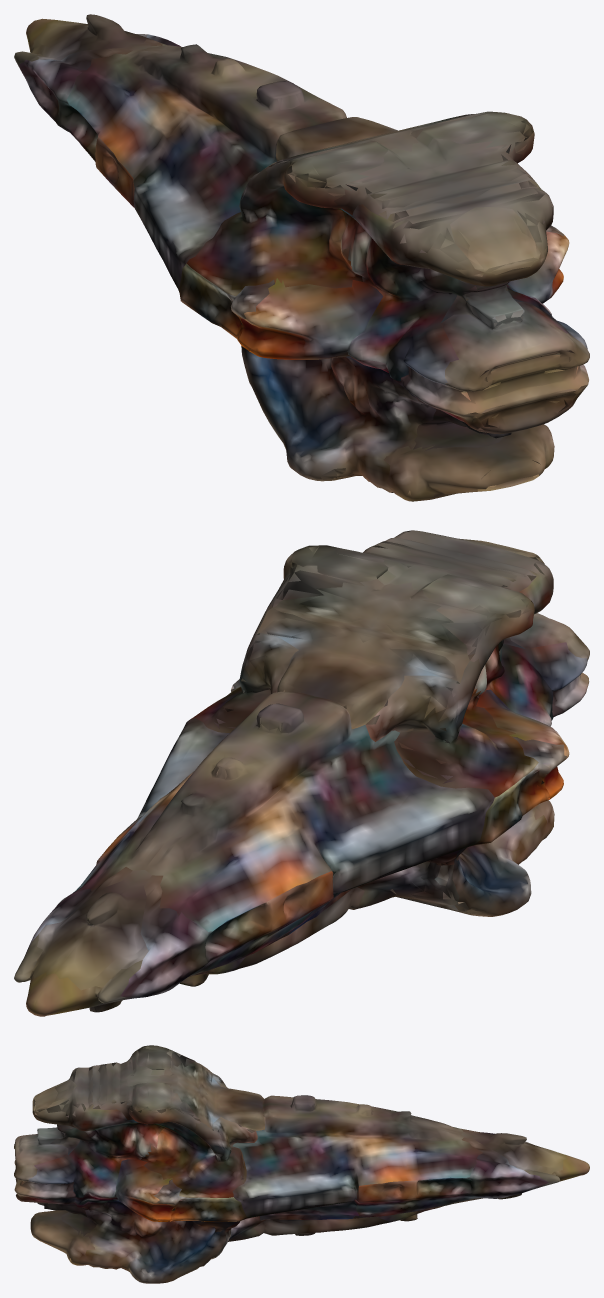
The model's file is covenant_cruiser.glb.
3 views of the same model, one above another, from view 1: azimuth 30°, elevation 25°; view 2: azimuth 150°, elevation 25°; view 3: azimuth 270°, elevation 25° (orthographic). The views are drawn at different scales.
Visible parts, largest first — view 1: covenant_frigate; view 2: covenant_frigate; view 3: covenant_frigate.
Part boxes in pixels (<box>): covenant_frigate: <box>14,14,589,501</box>; covenant_frigate: <box>14,530,589,1016</box>; covenant_frigate: <box>14,1045,589,1283</box>.
Size of the model in its own units: 0.0559 by 0.0518 by 0.1493.
Materials: 1 (1 with a texture image).
